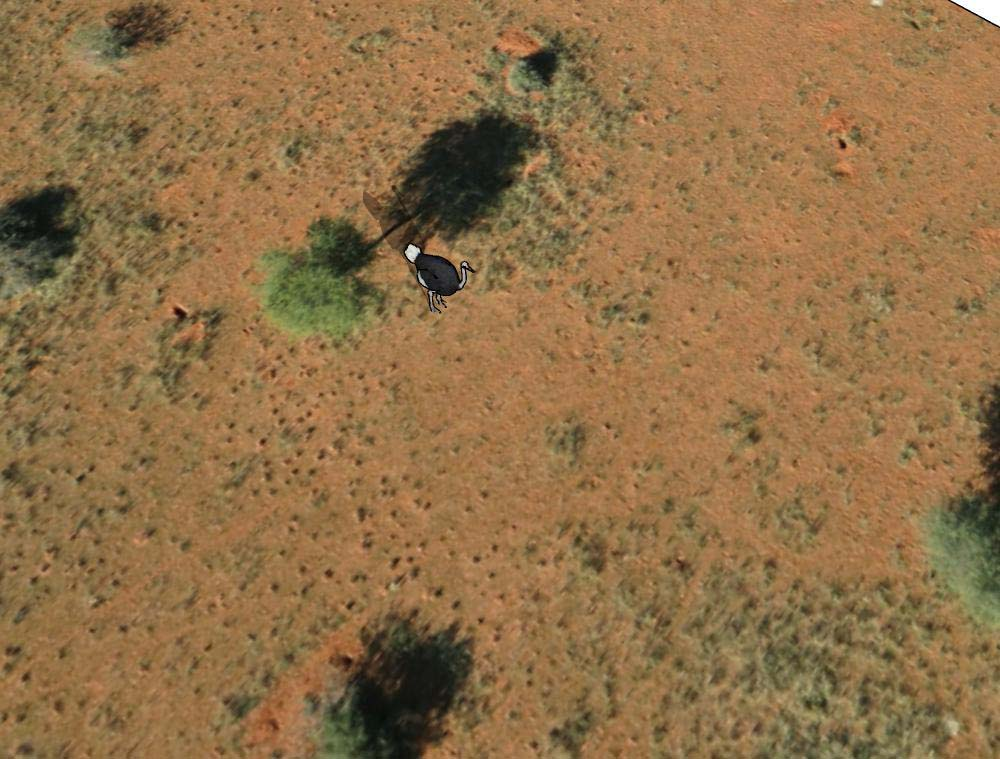springbok: (403, 235, 477, 313)
